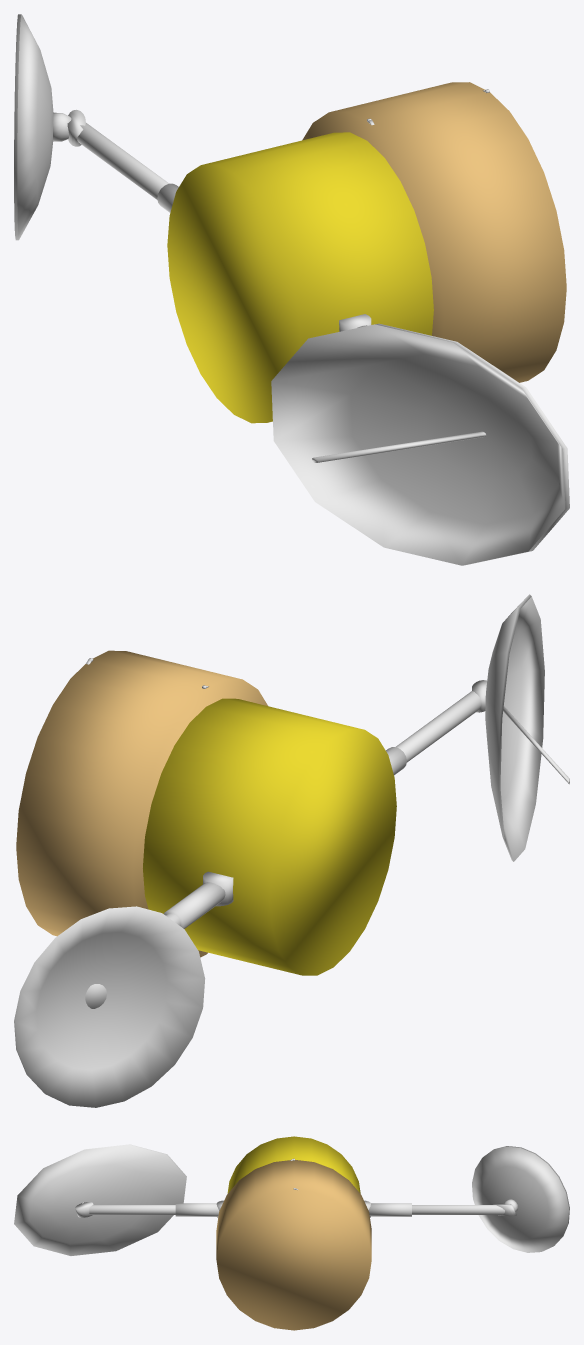
The model's file is Golos_28.fbx.
The picture shows the model from 3 angles, top to bottom: view 1: azimuth 30°, elevation 25°; view 2: azimuth 150°, elevation 25°; view 3: azimuth 270°, elevation 25°; orthographic projection. The views are drawn at different scales.
Visible parts, largest first — view 1: Dish.001, UtilityModule, ThunderCore, Dish, AntennaArm2, AntennaStick.001; view 2: UtilityModule, ThunderCore, Dish, Dish.001, AntennaArm2.001, AntennaArm1; view 3: ThunderCore, Dish.001, Dish, UtilityModule, AntennaArm2, AntennaArm2.001, AntennaArm1.001, AntennaArm1.
Boxes of the visible parts, x1=… form: Dish.001: x1=271, y1=323, x2=569, y2=565; UtilityModule: x1=167, y1=132, x2=433, y2=423; ThunderCore: x1=302, y1=82, x2=566, y2=382; Dish: x1=14, y1=14, x2=53, y2=240; AntennaArm2: x1=77, y1=123, x2=168, y2=199; AntennaStick.001: x1=312, y1=431, x2=486, y2=462; UtilityModule: x1=143, y1=698, x2=396, y2=975; ThunderCore: x1=16, y1=650, x2=267, y2=957; Dish: x1=14, y1=906, x2=205, y2=1107; Dish.001: x1=485, y1=594, x2=544, y2=861; AntennaArm2.001: x1=395, y1=691, x2=481, y2=762; AntennaArm1: x1=164, y1=882, x2=225, y2=928; ThunderCore: x1=216, y1=1160, x2=371, y2=1330; Dish.001: x1=14, y1=1144, x2=186, y2=1255; Dish: x1=472, y1=1146, x2=569, y2=1252; UtilityModule: x1=227, y1=1136, x2=360, y2=1193; AntennaArm2: x1=412, y1=1205, x2=504, y2=1214; AntennaArm2.001: x1=89, y1=1205, x2=175, y2=1214; AntennaArm1.001: x1=175, y1=1203, x2=219, y2=1216; AntennaArm1: x1=368, y1=1203, x2=411, y2=1216.
Bounding box in the file's own units: 120 × 94.42 × 336.
